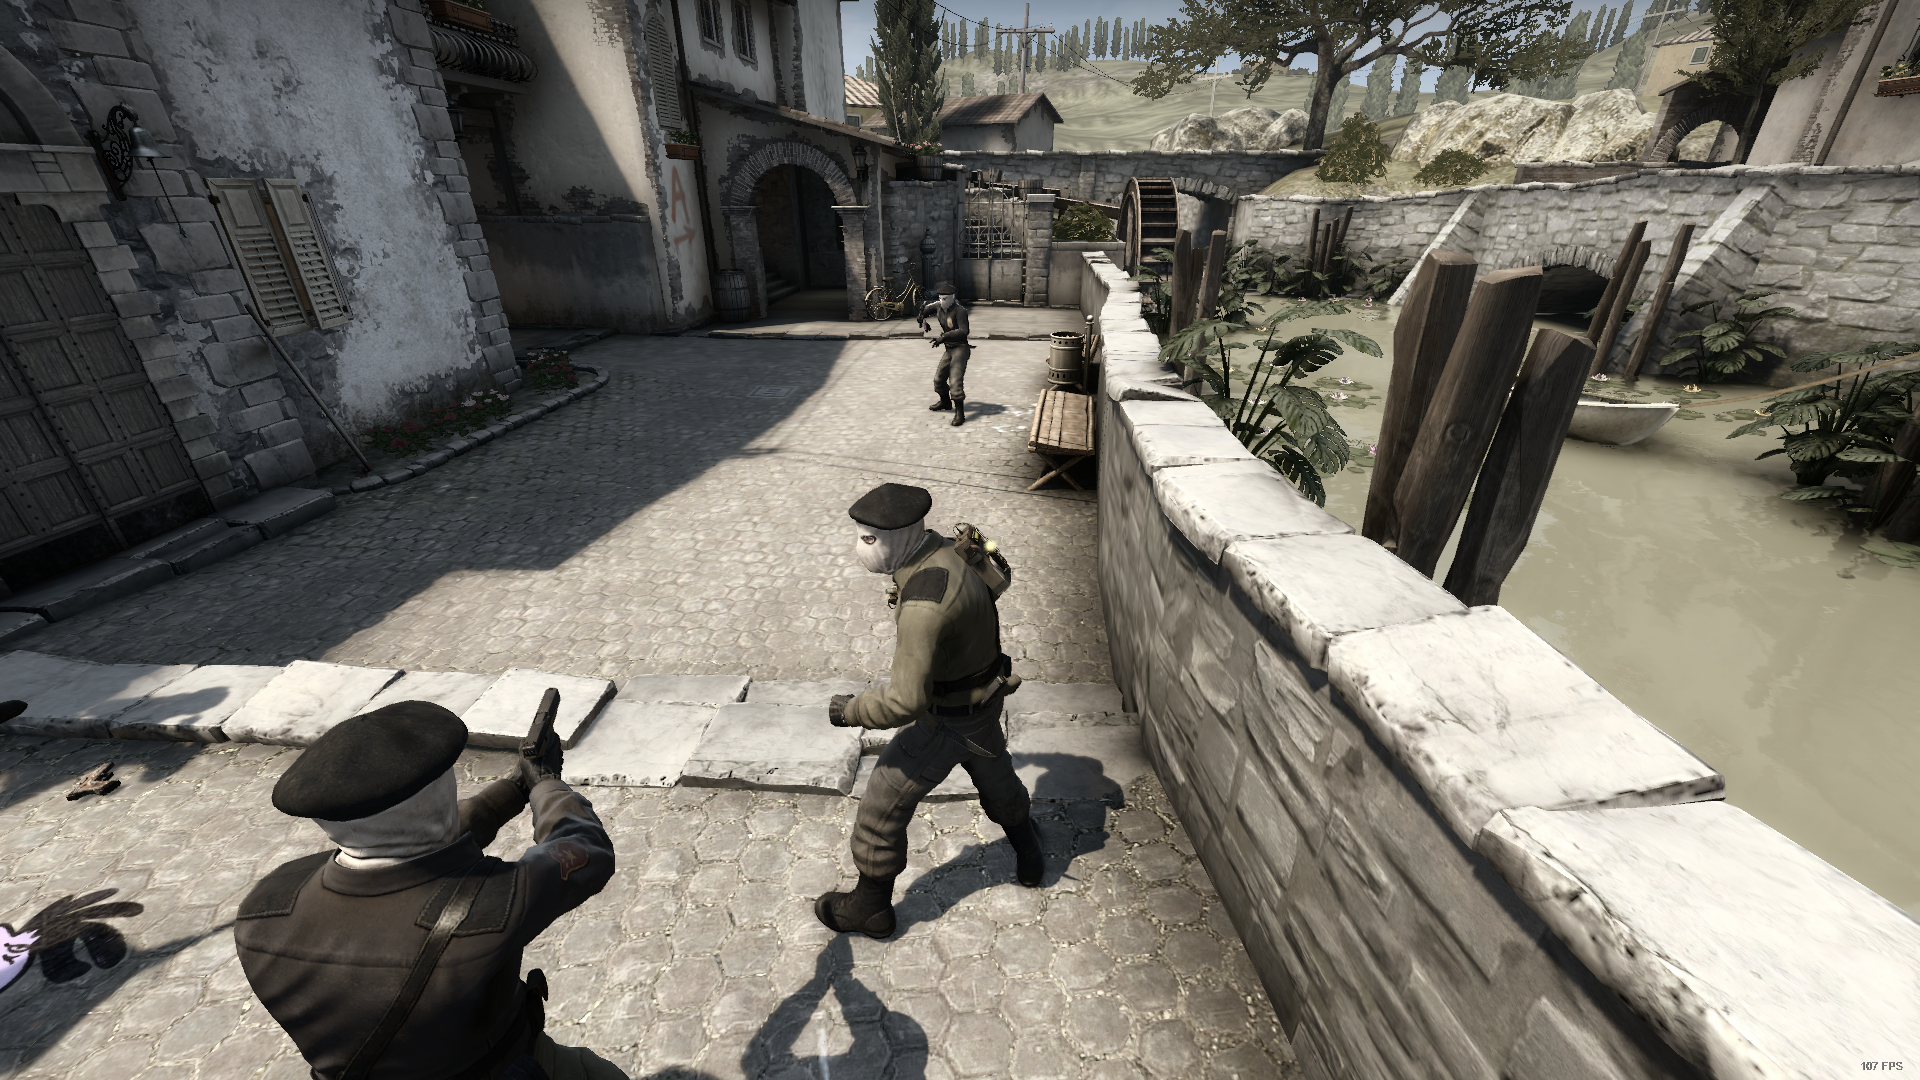t: (233, 704, 618, 1080), (811, 483, 1044, 938), (920, 286, 971, 426)
